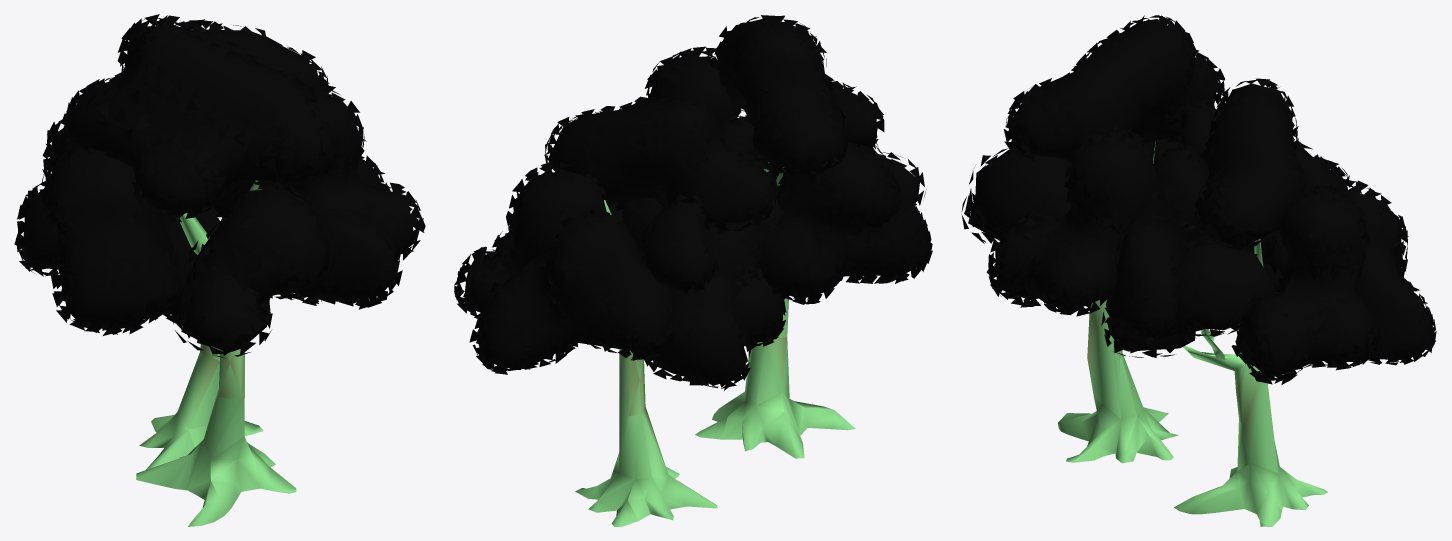
Rendered from SM_ENV_LKNVLD_Tree_D_Lod2.gltf.
3 views of the same model, side by side, from view 1: azimuth 30°, elevation 25°; view 2: azimuth 150°, elevation 25°; view 3: azimuth 270°, elevation 25° (orthographic). The views are drawn at different scales.
Visible parts, largest first — view 1: SM_ENV_LKNVLD_Tree_D_Lod2; view 2: SM_ENV_LKNVLD_Tree_D_Lod2; view 3: SM_ENV_LKNVLD_Tree_D_Lod2.
Part boxes in pixels (box(x1,y1,x2,y2)): SM_ENV_LKNVLD_Tree_D_Lod2: box(14, 14, 425, 526); SM_ENV_LKNVLD_Tree_D_Lod2: box(454, 15, 932, 526); SM_ENV_LKNVLD_Tree_D_Lod2: box(961, 15, 1436, 526).
Bounding box in the file's own units: 12 × 14.84 × 14.26.
